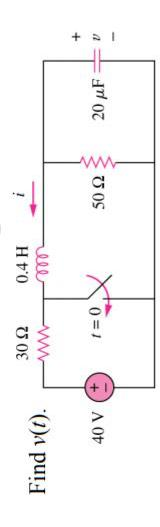inductor: (28, 235, 53, 296)
